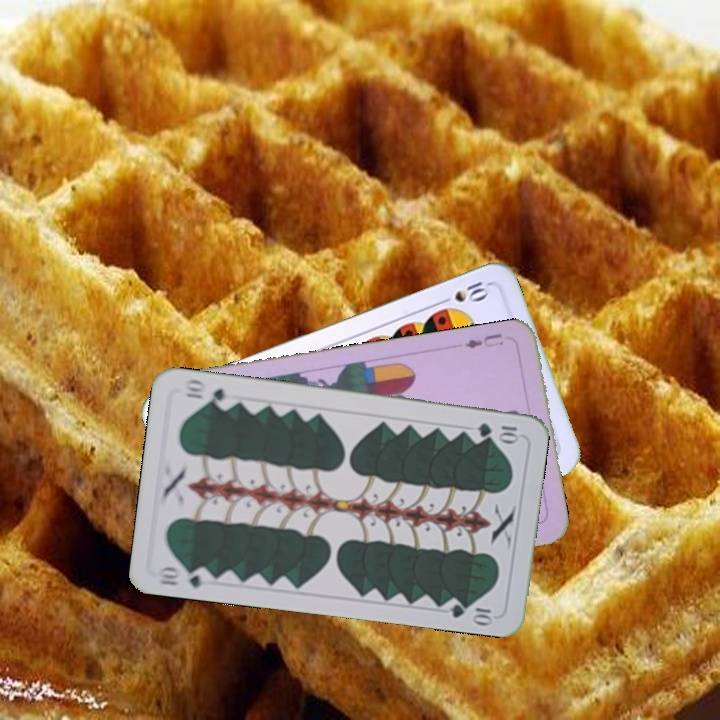EU: (461, 329, 506, 351)
G10: (153, 562, 213, 590), (473, 419, 521, 443)
S10: (434, 277, 492, 307)
